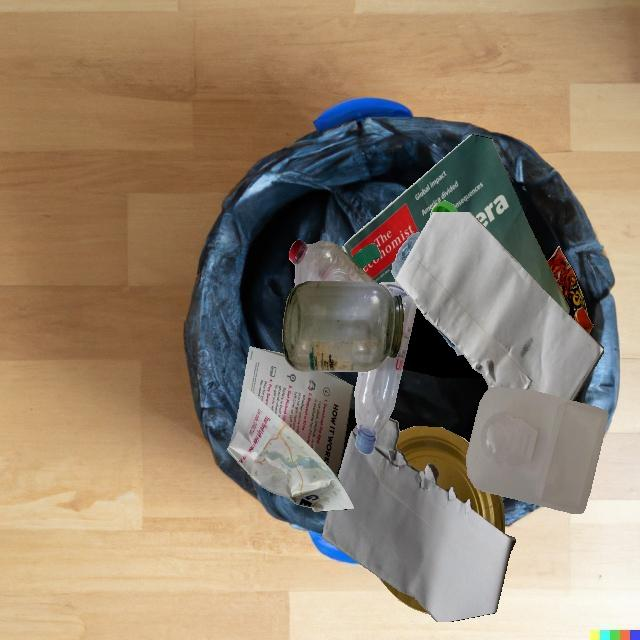glass: (282, 281, 403, 372)
paper: (342, 134, 570, 314), (395, 212, 604, 401), (322, 418, 515, 622), (227, 346, 355, 512), (396, 426, 505, 534)
plastic: (466, 387, 608, 514), (355, 282, 417, 455), (397, 267, 463, 355), (289, 239, 377, 286), (396, 232, 421, 267), (351, 243, 382, 269), (430, 200, 458, 217)
trash: (547, 247, 594, 335)
